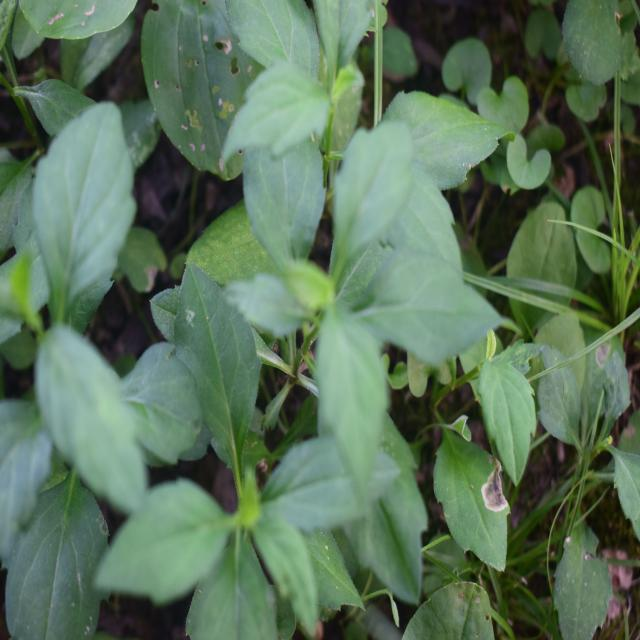Indian aster: (191, 0, 482, 288), (434, 340, 552, 561)
